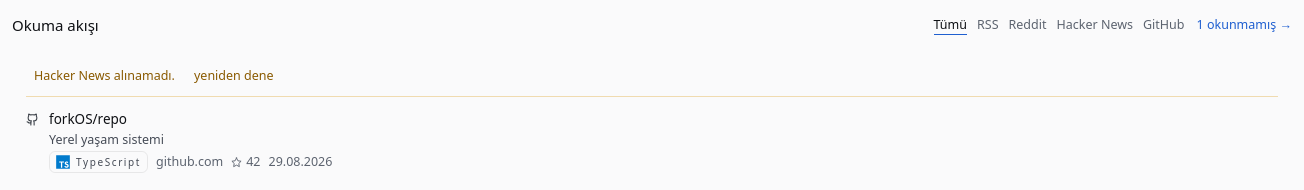
FeedStreamWidget source isolation › filtre secimini aria-pressed ile aktarir ve yalniz secili kaynak yuklenirken yukleniyor der
This screenshot has width=1304, height=190.
Click the button "RSS".
click(988, 25)  # box [977,16,998,34]
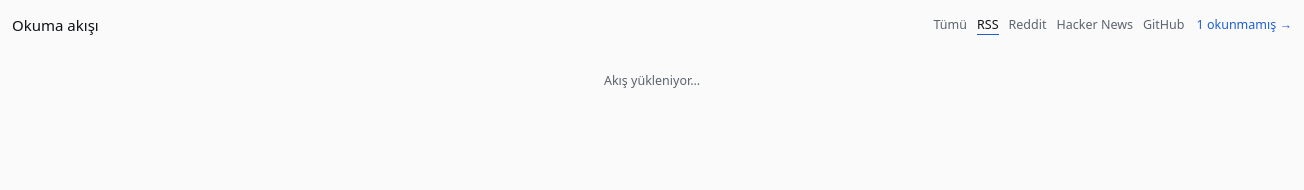
expect the text "Akış yükleniyor…" is shown: met, box [604,72,700,89]
